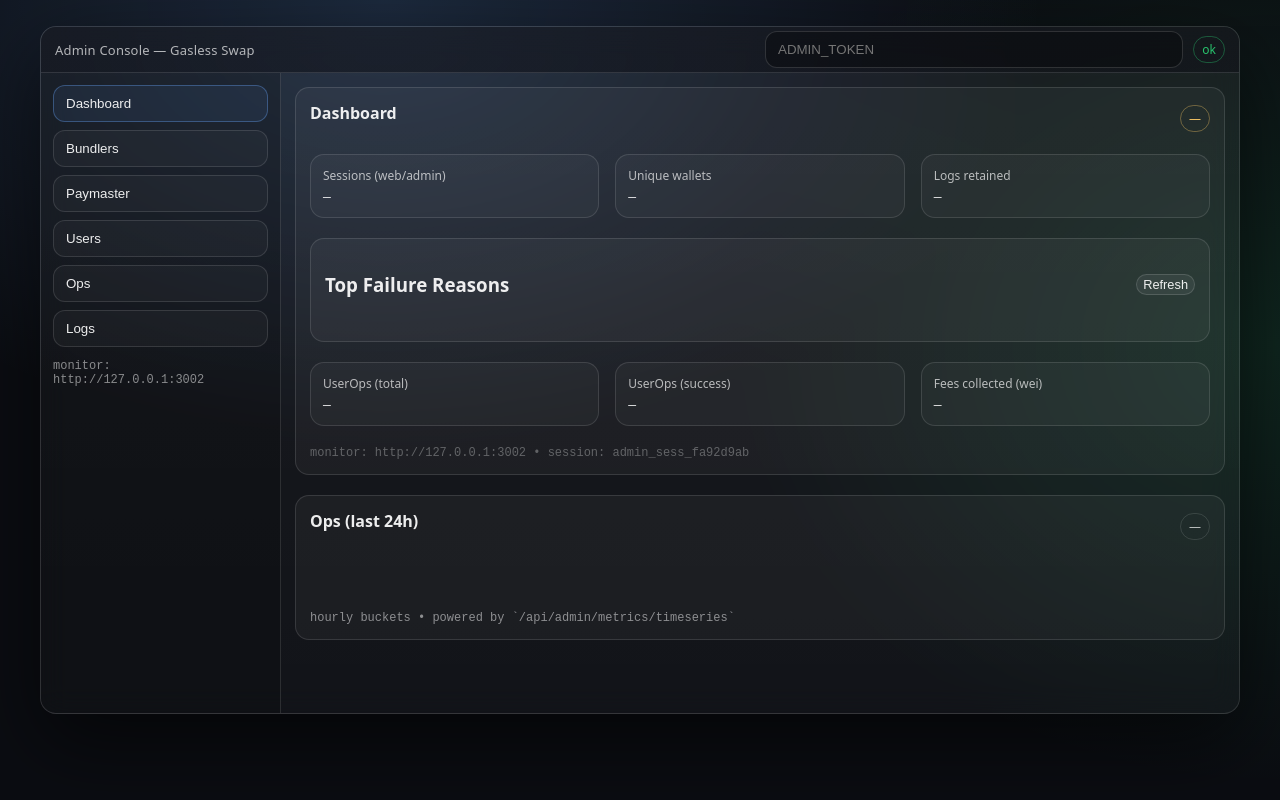
Scenario: Admin App › shows actionable paymaster backend errors
Click the button "Paymaster" at coordinates (160, 194), box [53,175,268,212]
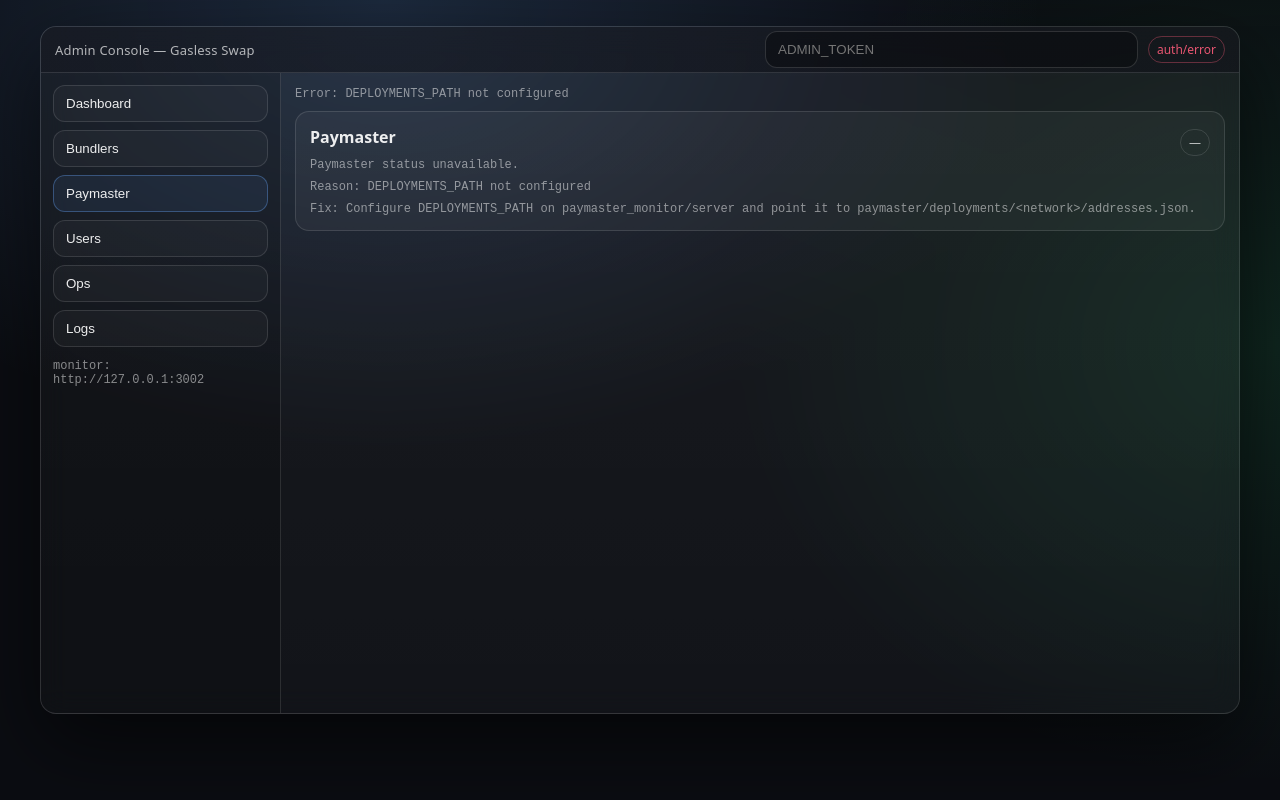
Now the text "Paymaster status unavailable." is shown, box [310,158,519,172]
Now the text "Reason: DEPLOYMENTS_PATH not configured" is shown, box [310,180,591,194]
Now the text "Fix: Configure DEPLOYMENTS_PATH on paymaster_monitor/server and point it to paymaster/deployments/<network>/addresses.js" is shown, box [310,202,1210,216]
